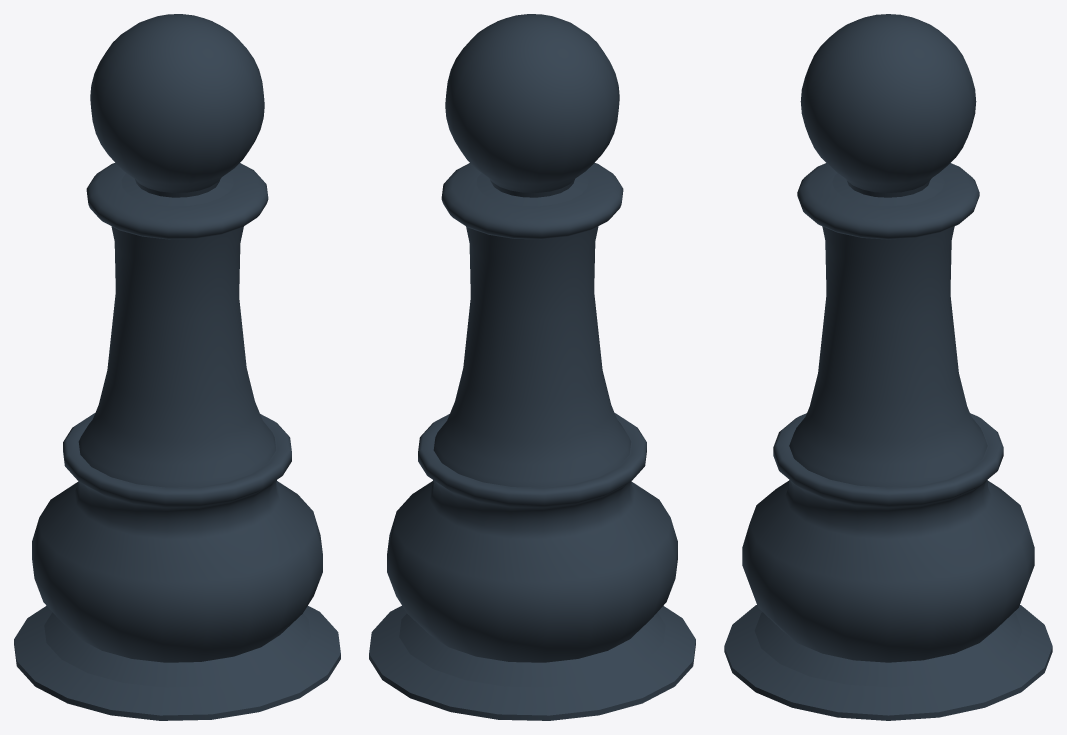
The model's file is black-pawn.glb.
The picture shows the model from 3 angles, left to right: view 1: azimuth 30°, elevation 25°; view 2: azimuth 150°, elevation 25°; view 3: azimuth 270°, elevation 25°; orthographic projection.
Visible parts, largest first — view 1: Pawn; view 2: Pawn; view 3: Pawn.
Boxes of the visible parts, x1,y1,x2,y2 form: Pawn: (14,14,340,720); Pawn: (369,14,695,720); Pawn: (724,14,1052,720).
Bounding box in the file's own units: 0.0318 × 0.0672 × 0.0318.
